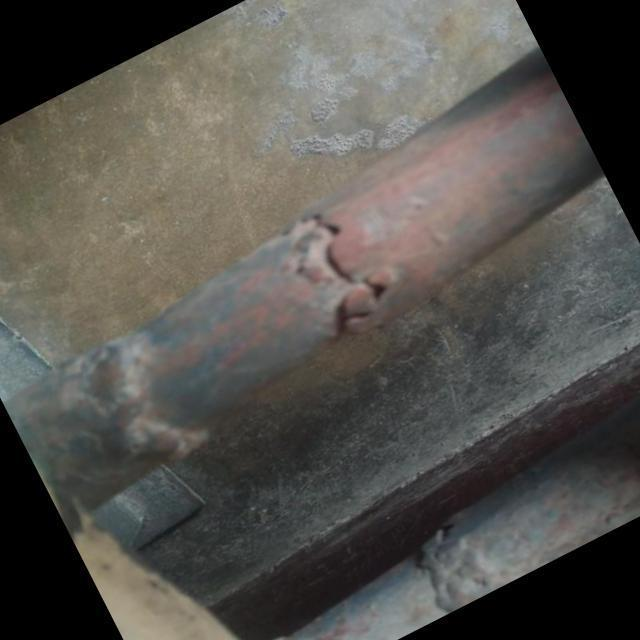defect: (292, 206, 391, 331)
